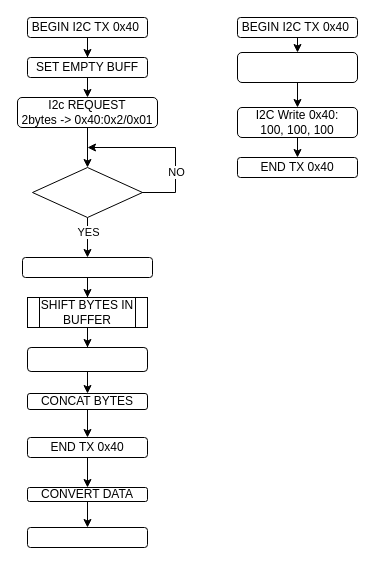
The diagram is 375 pixels wide and 565 high, and some of its shapes have lost their labels. The box of each missing label's shape, as (x1, y1, x2, y2) in pixels:
0x40 AVBL = 2byte: (32, 166, 142, 218)
I2C RX 0x40: (26, 346, 148, 372)
I2C RX 0x40:0x2/0x1: (22, 256, 152, 278)
I2C Write 0x40: RST: (236, 52, 358, 82)
SAVE DATA: (26, 526, 148, 548)
